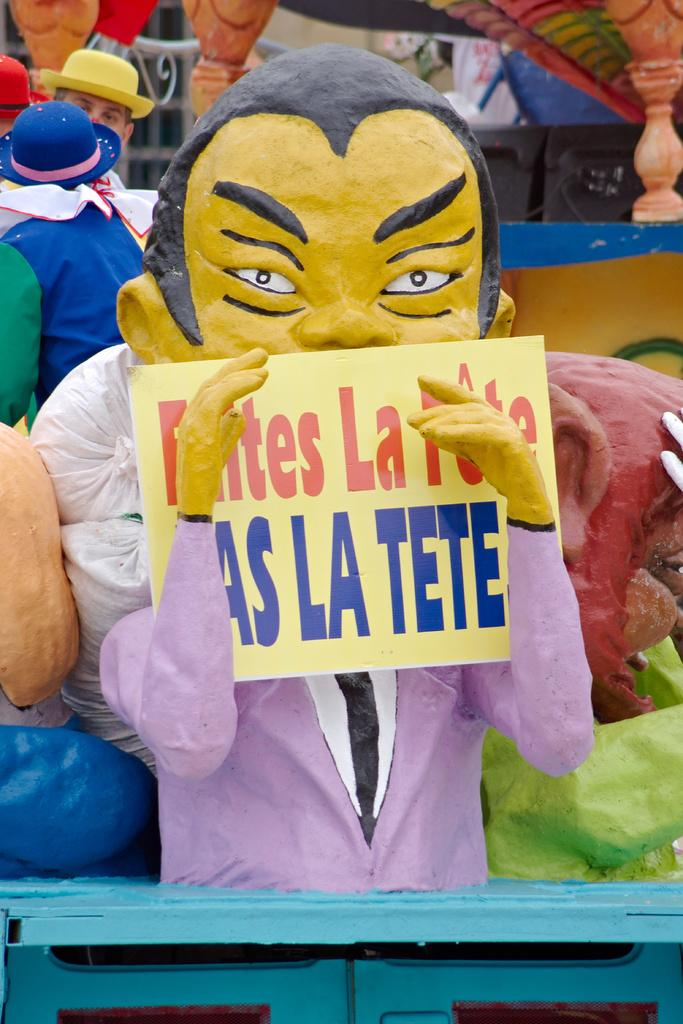Hat: (0, 98, 125, 189), (42, 42, 152, 118)
